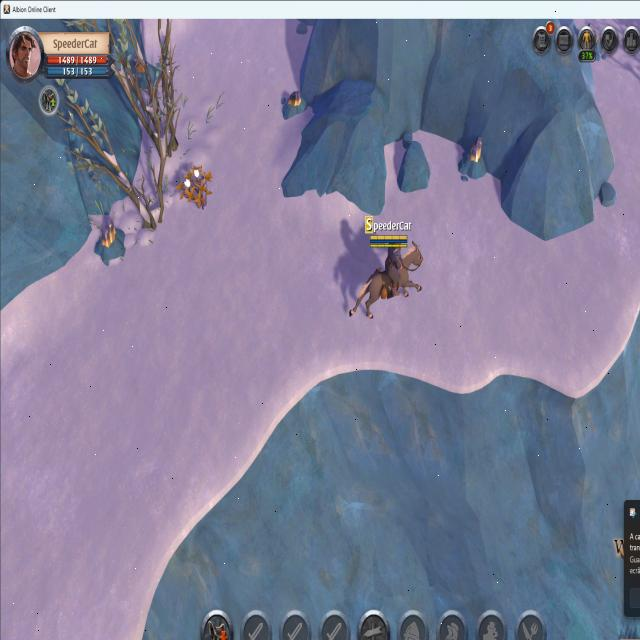copper: (91, 214, 126, 269), (459, 134, 486, 184), (282, 88, 307, 122)
cotton: (172, 158, 216, 215)
